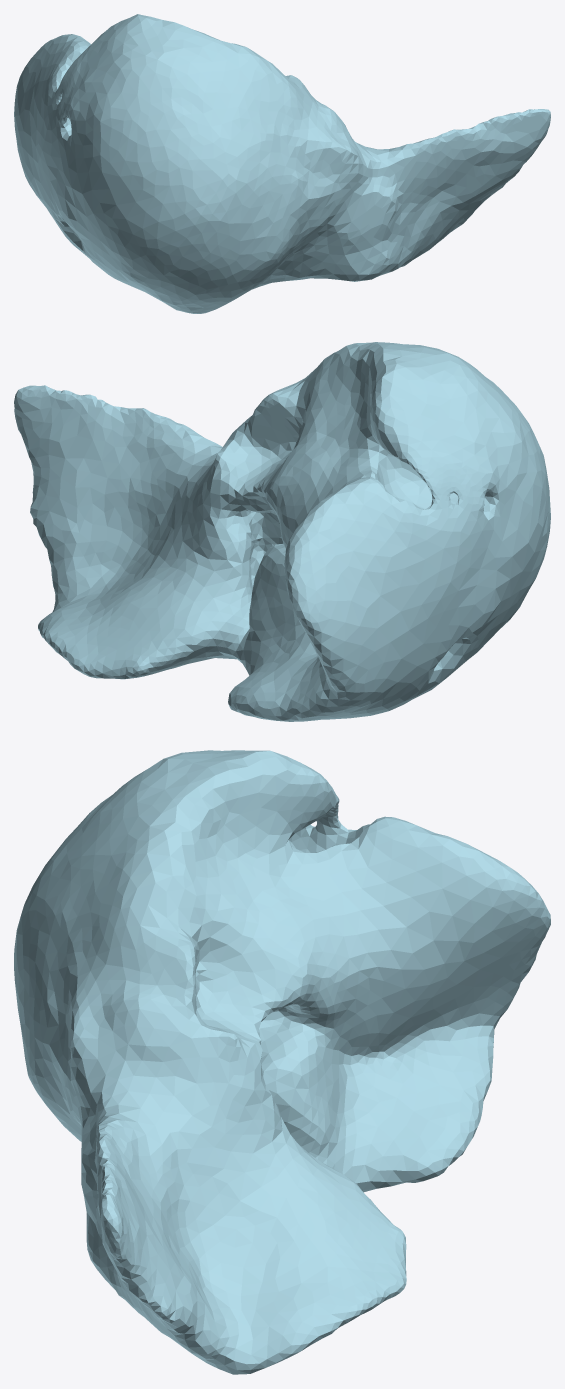
File: liver.obj
3 views of the same model, one above another, from view 1: azimuth 30°, elevation 25°; view 2: azimuth 150°, elevation 25°; view 3: azimuth 270°, elevation 25° (orthographic). The views are drawn at different scales.
Parts seen in each view (by area): view 1: grp1; view 2: grp1; view 3: grp1.
Part boxes in pixels (bbox=[...]): grp1: bbox=[14, 14, 550, 313]; grp1: bbox=[14, 342, 550, 721]; grp1: bbox=[14, 750, 550, 1374].
Bounding box in the file's own units: 233 × 144 × 166.
